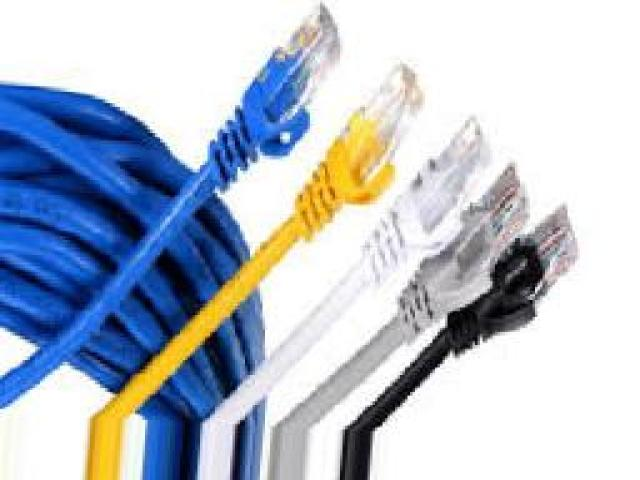wire: (0, 0, 578, 478)
